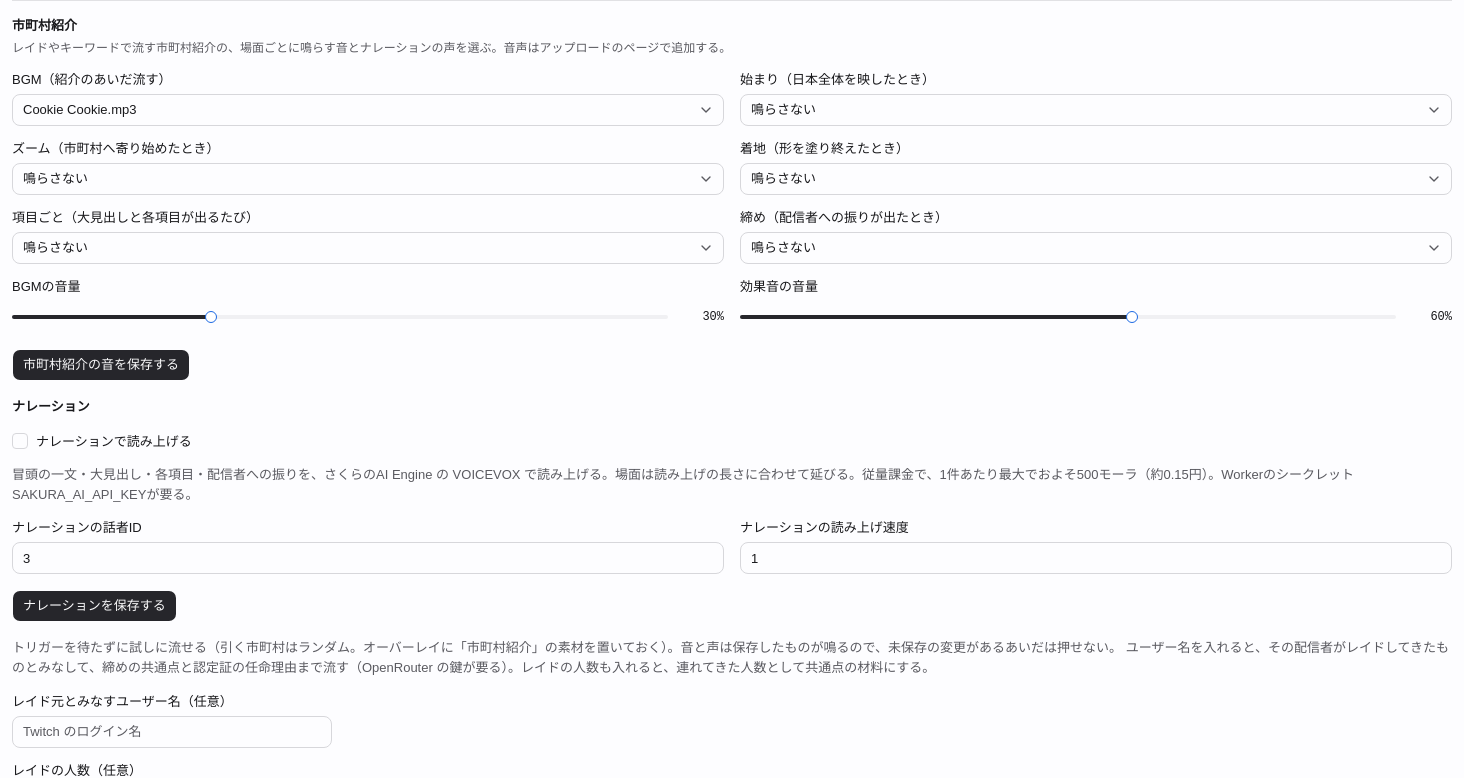
TownTourSoundCard › 保存を断られたら、問題点を枠の名前に読み替えて1行ずつ出す
Click the button "市町村紹介の音を保存する" at [101, 365], box [12, 349, 190, 381]
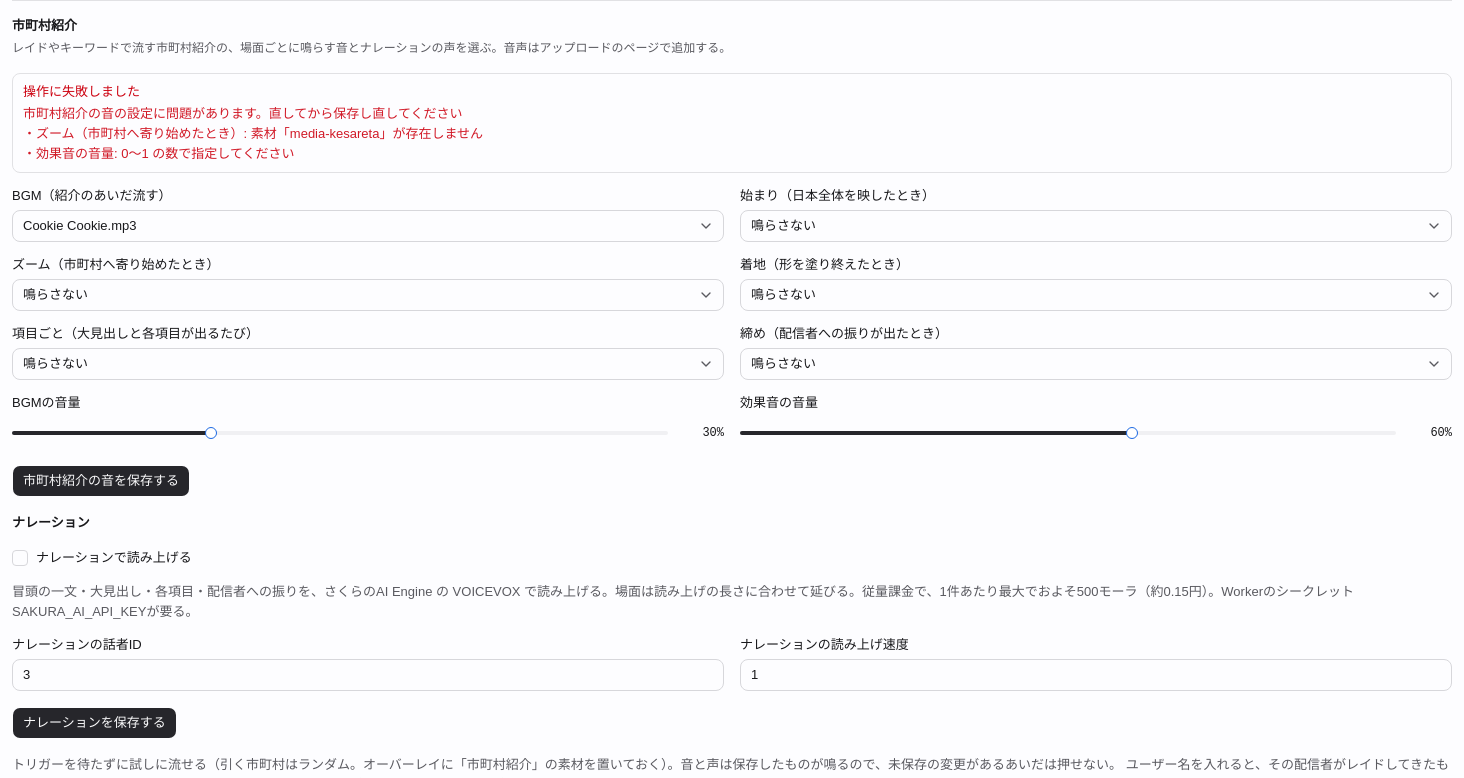
Now the text "・効果音の音量: 0〜1 の数で指定してください" is shown, box [23, 106, 483, 161]
